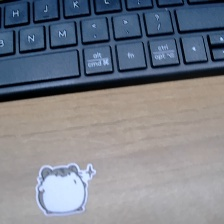mouse: (33, 163, 102, 219)
